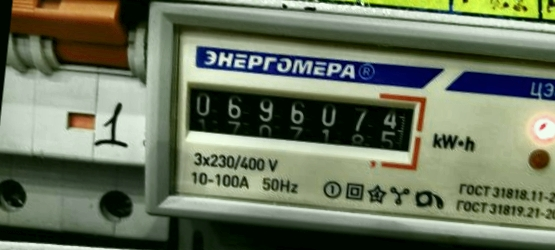0: (192, 89, 214, 116), (319, 100, 339, 127)
4: (381, 105, 399, 129)
5: (379, 128, 397, 150)
6: (287, 96, 308, 125), (224, 92, 245, 118)
7: (351, 104, 369, 131)
9: (256, 94, 275, 122)
screen: (171, 67, 431, 174)
